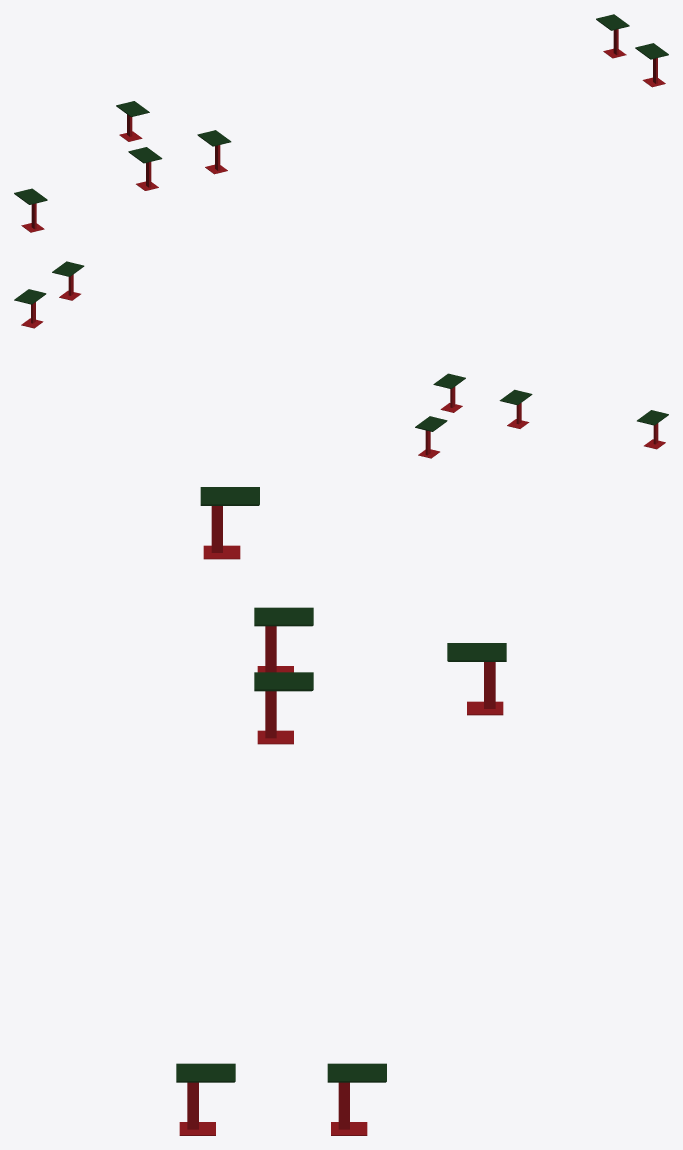
The model's file is Table_Small_Group.fbx.
The picture shows the model from 3 angles, top to bottom: view 1: azimuth 30°, elevation 25°; view 2: azimuth 150°, elevation 25°; view 3: azimuth 270°, elevation 25°; orthographic projection. The views are drawn at different scales.
Parts seen in each view (by area): view 1: Table_Small_Low004, Table_Small_Low001, Table_Small_Low003, Table_Small_Low005, Table_Small_Low002, Table_Small_Low006; view 2: Table_Small_Low006, Table_Small_Low003, Table_Small_Low004, Table_Small_Low002, Table_Small_Low005, Table_Small_Low001; view 3: Table_Small_Low003, Table_Small_Low002, Table_Small_Low001, Table_Small_Low005, Table_Small_Low006, Table_Small_Low004.
Part boxes in pixels (x1=…): Table_Small_Low004: x1=128, y1=147, x2=162, y2=190; Table_Small_Low001: x1=596, y1=14, x2=629, y2=58; Table_Small_Low003: x1=197, y1=130, x2=231, y2=174; Table_Small_Low005: x1=14, y1=188, x2=47, y2=232; Table_Small_Low002: x1=635, y1=43, x2=668, y2=87; Table_Small_Low006: x1=116, y1=101, x2=149, y2=141; Table_Small_Low006: x1=415, y1=416, x2=447, y2=458; Table_Small_Low003: x1=433, y1=373, x2=465, y2=412; Table_Small_Low004: x1=499, y1=389, x2=532, y2=428; Table_Small_Low002: x1=52, y1=261, x2=84, y2=300; Table_Small_Low005: x1=637, y1=410, x2=668, y2=449; Table_Small_Low001: x1=14, y1=289, x2=46, y2=328; Table_Small_Low003: x1=254, y1=672, x2=313, y2=744; Table_Small_Low002: x1=176, y1=1063, x2=235, y2=1135; Table_Small_Low001: x1=327, y1=1063, x2=386, y2=1135; Table_Small_Low005: x1=200, y1=487, x2=259, y2=559; Table_Small_Low006: x1=447, y1=643, x2=506, y2=715; Table_Small_Low004: x1=254, y1=607, x2=313, y2=672.
Bounding box in the file's own units: 1554 × 69.62 × 365.
